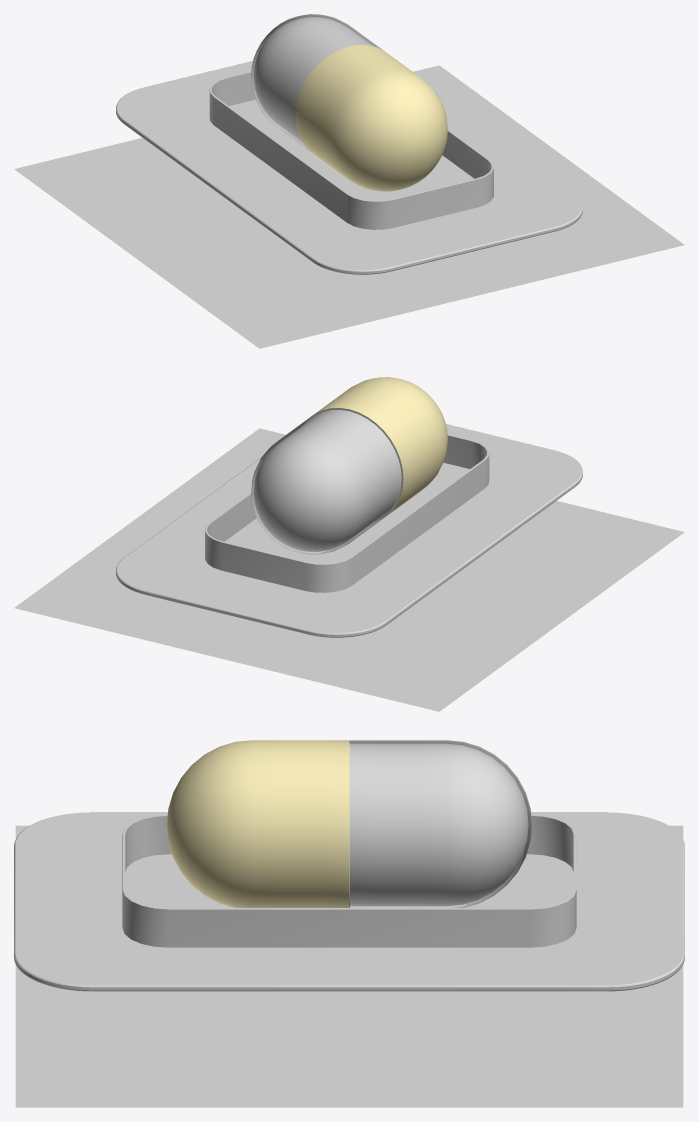
3 views of the same model, one above another, from view 1: azimuth 30°, elevation 25°; view 2: azimuth 150°, elevation 25°; view 3: azimuth 270°, elevation 25° (orthographic). The views are drawn at different scales.
Parts seen in each view (by area): view 1: 平面, 封顶 2, 胶囊, 立方体.1, 胶囊.1, 平滑 2, 挤压, 平滑 1; view 2: 平面, 封顶 2, 胶囊.1, 立方体.1, 胶囊, 平滑 2, 挤压, 平滑 1; view 3: 平面, 封顶 2, 胶囊, 胶囊.1, 立方体.1, 平滑 2, 挤压, 平滑 1.
Part boxes in pixels (x1,y1,x2,y2): 平面: (14, 65, 684, 348); 封顶 2: (117, 61, 581, 270); 胶囊: (295, 45, 447, 191); 立方体.1: (209, 71, 493, 229); 胶囊.1: (251, 14, 383, 152); 平滑 2: (116, 64, 582, 271); 挤压: (116, 111, 582, 273); 平滑 1: (118, 118, 579, 274); 平面: (14, 428, 684, 711); 封顶 2: (117, 424, 581, 633); 胶囊.1: (251, 408, 403, 554); 立方体.1: (205, 434, 489, 592); 胶囊: (315, 377, 447, 515); 平滑 2: (116, 427, 582, 634); 挤压: (116, 474, 582, 636); 平滑 1: (117, 481, 580, 637); 平面: (15, 825, 683, 1107); 封顶 2: (15, 812, 683, 985); 胶囊: (166, 740, 349, 907); 胶囊.1: (349, 740, 532, 907); 立方体.1: (122, 815, 576, 947); 平滑 2: (14, 812, 684, 987); 挤压: (14, 956, 684, 990); 平滑 1: (17, 965, 682, 991).
Size of what is drawn, in the model's own units: 4000000 by 1446204 by 4020000.
